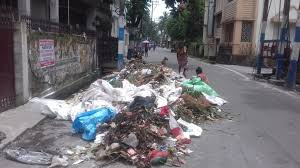garbage: (72, 84, 209, 162), (119, 67, 178, 161)
